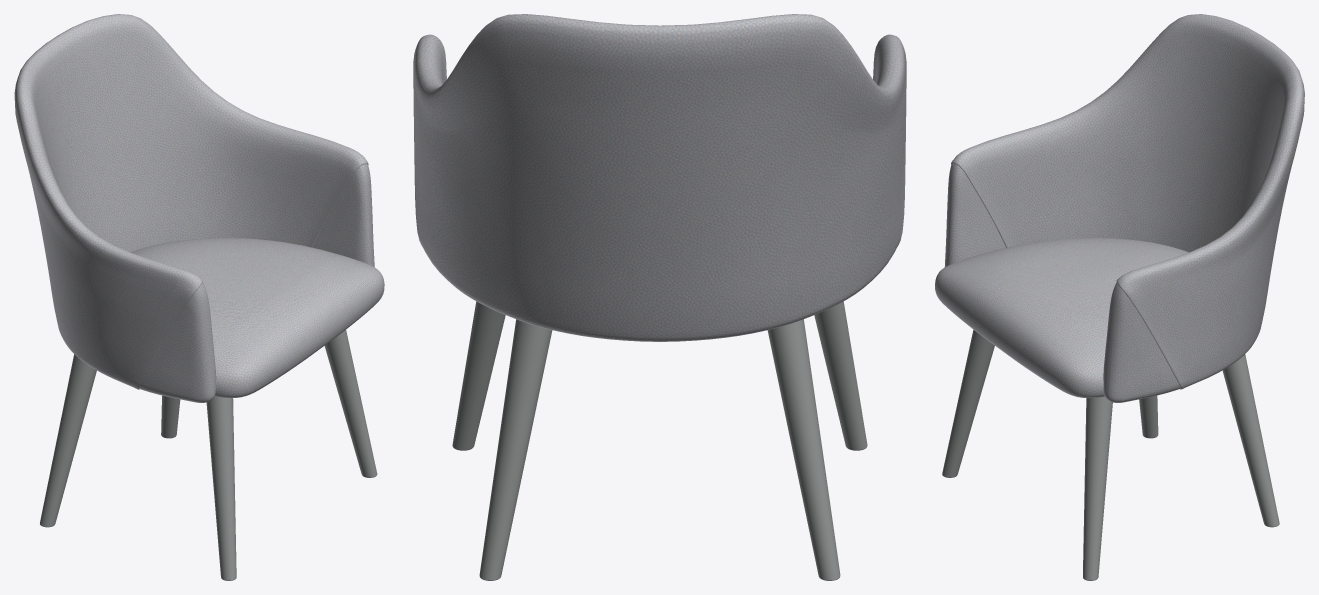
The model's file is 1773830880405-Oslo Wing Armchair.glb.
3 views of the same model, side by side, from view 1: azimuth 30°, elevation 25°; view 2: azimuth 150°, elevation 25°; view 3: azimuth 270°, elevation 25° (orthographic). The views are drawn at different scales.
Visible parts, largest first — view 1: SM_Chair01_0; view 2: SM_Chair01_0; view 3: SM_Chair01_0.
Part boxes in pixels (<box>): SM_Chair01_0: <box>14,14,384,580</box>; SM_Chair01_0: <box>413,14,906,580</box>; SM_Chair01_0: <box>935,14,1304,580</box>.
Size of the model in its own units: 0.6691 by 0.8281 by 0.6555.
Materials: 2 (1 with a texture image).
